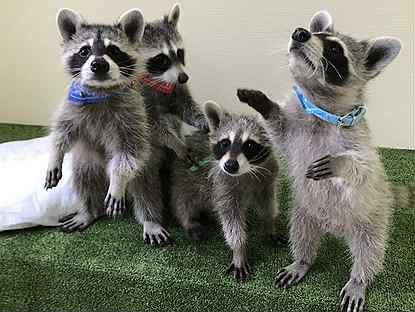raccoon: (237, 11, 415, 312), (40, 2, 165, 246), (157, 102, 282, 257)
